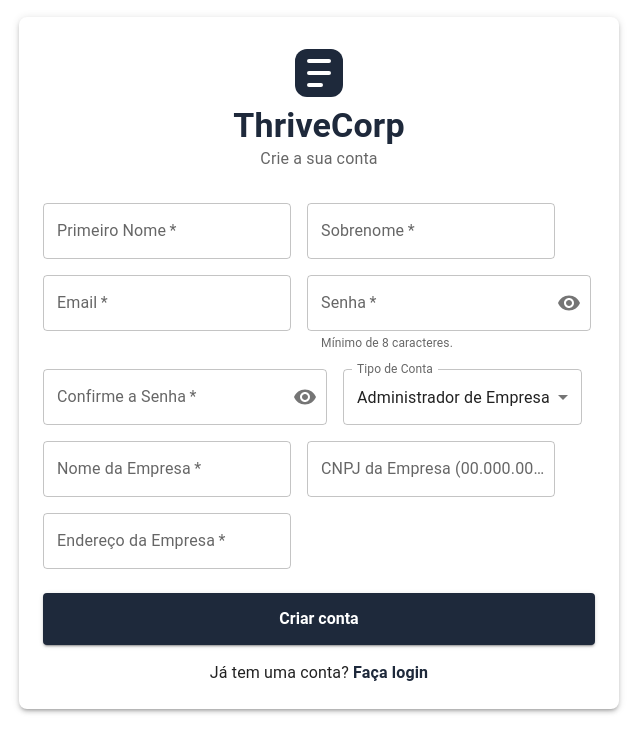
Test case: RegisterPage Component › deve alternar os campos ao mudar o Tipo de Conta para Fornecedor
Press the mouse on the dropdown named "Tipo de Conta": (453, 397) [357, 388, 550, 407]
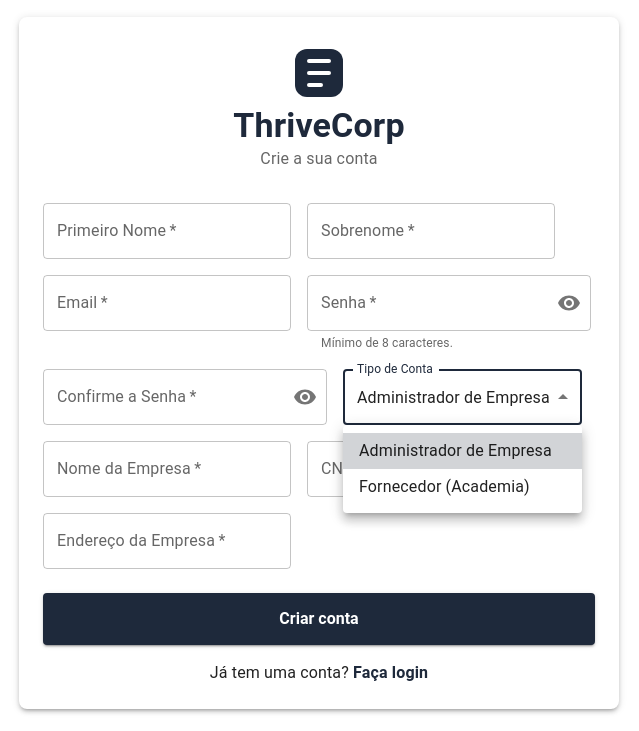
Click the option "Fornecedor (Academia)": (444, 486) [359, 477, 530, 496]
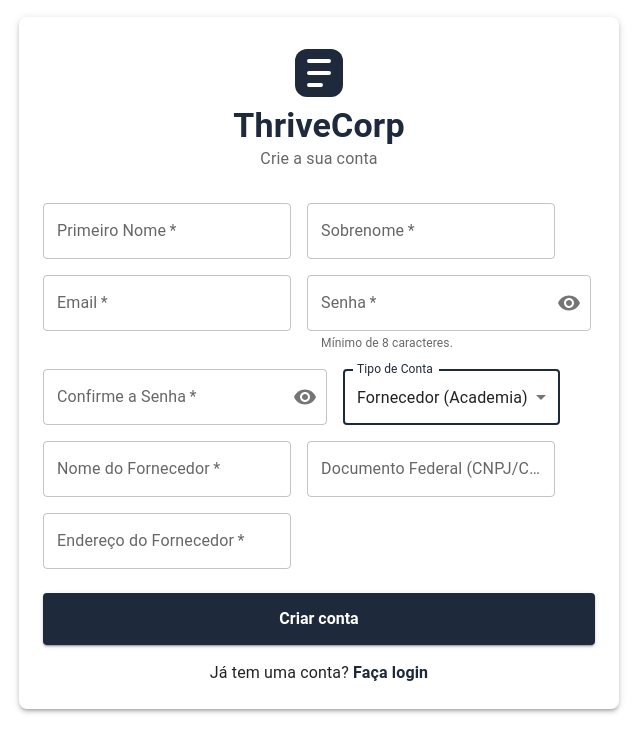
Expected: the field labelled "Nome do Fornecedor *" is shown, [43, 441, 291, 497]
Expected: the label labelled "Nome da Empresa" is gone
